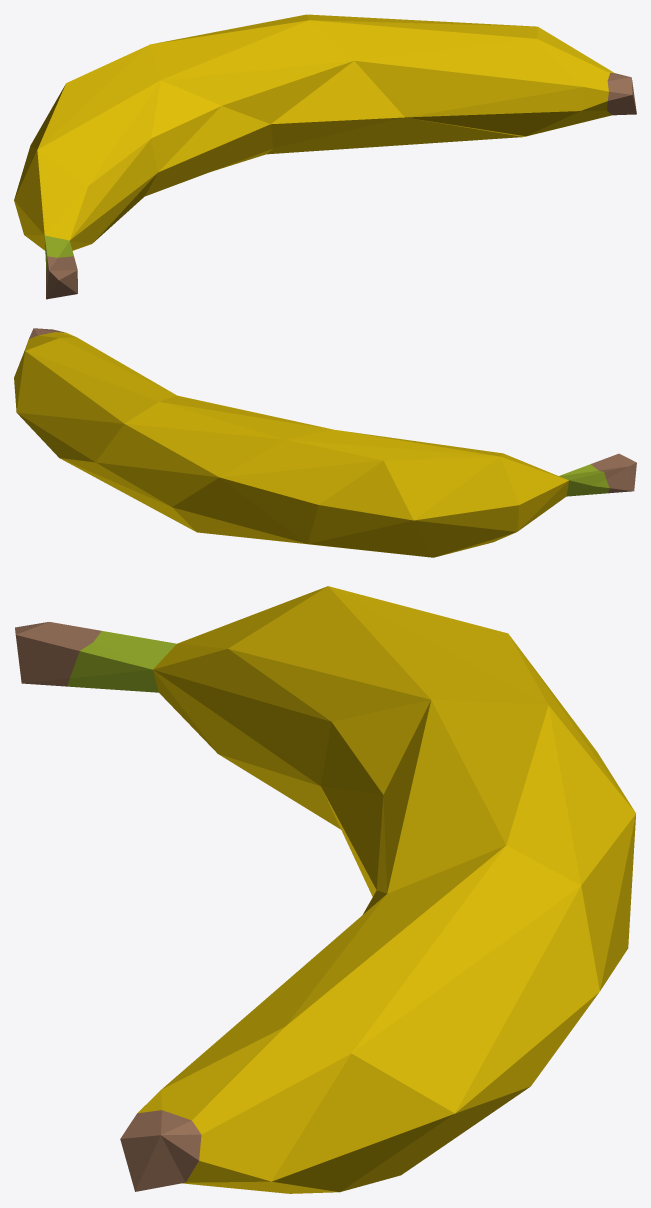
The model's file is chuoi.glb.
3 views of the same model, one above another, from view 1: azimuth 30°, elevation 25°; view 2: azimuth 150°, elevation 25°; view 3: azimuth 270°, elevation 25° (orthographic). The views are drawn at different scales.
Visible parts, largest first — view 1: Low Poly Banana.001; view 2: Low Poly Banana.001; view 3: Low Poly Banana.001.
Boxes of the visible parts, bbox=[...] form: Low Poly Banana.001: bbox=[14, 14, 636, 299]; Low Poly Banana.001: bbox=[14, 328, 636, 557]; Low Poly Banana.001: bbox=[15, 586, 635, 1193].
Size of the model in its own units: 1.02 by 0.1915 by 0.4794.
Materials: 1 (1 with a texture image).
